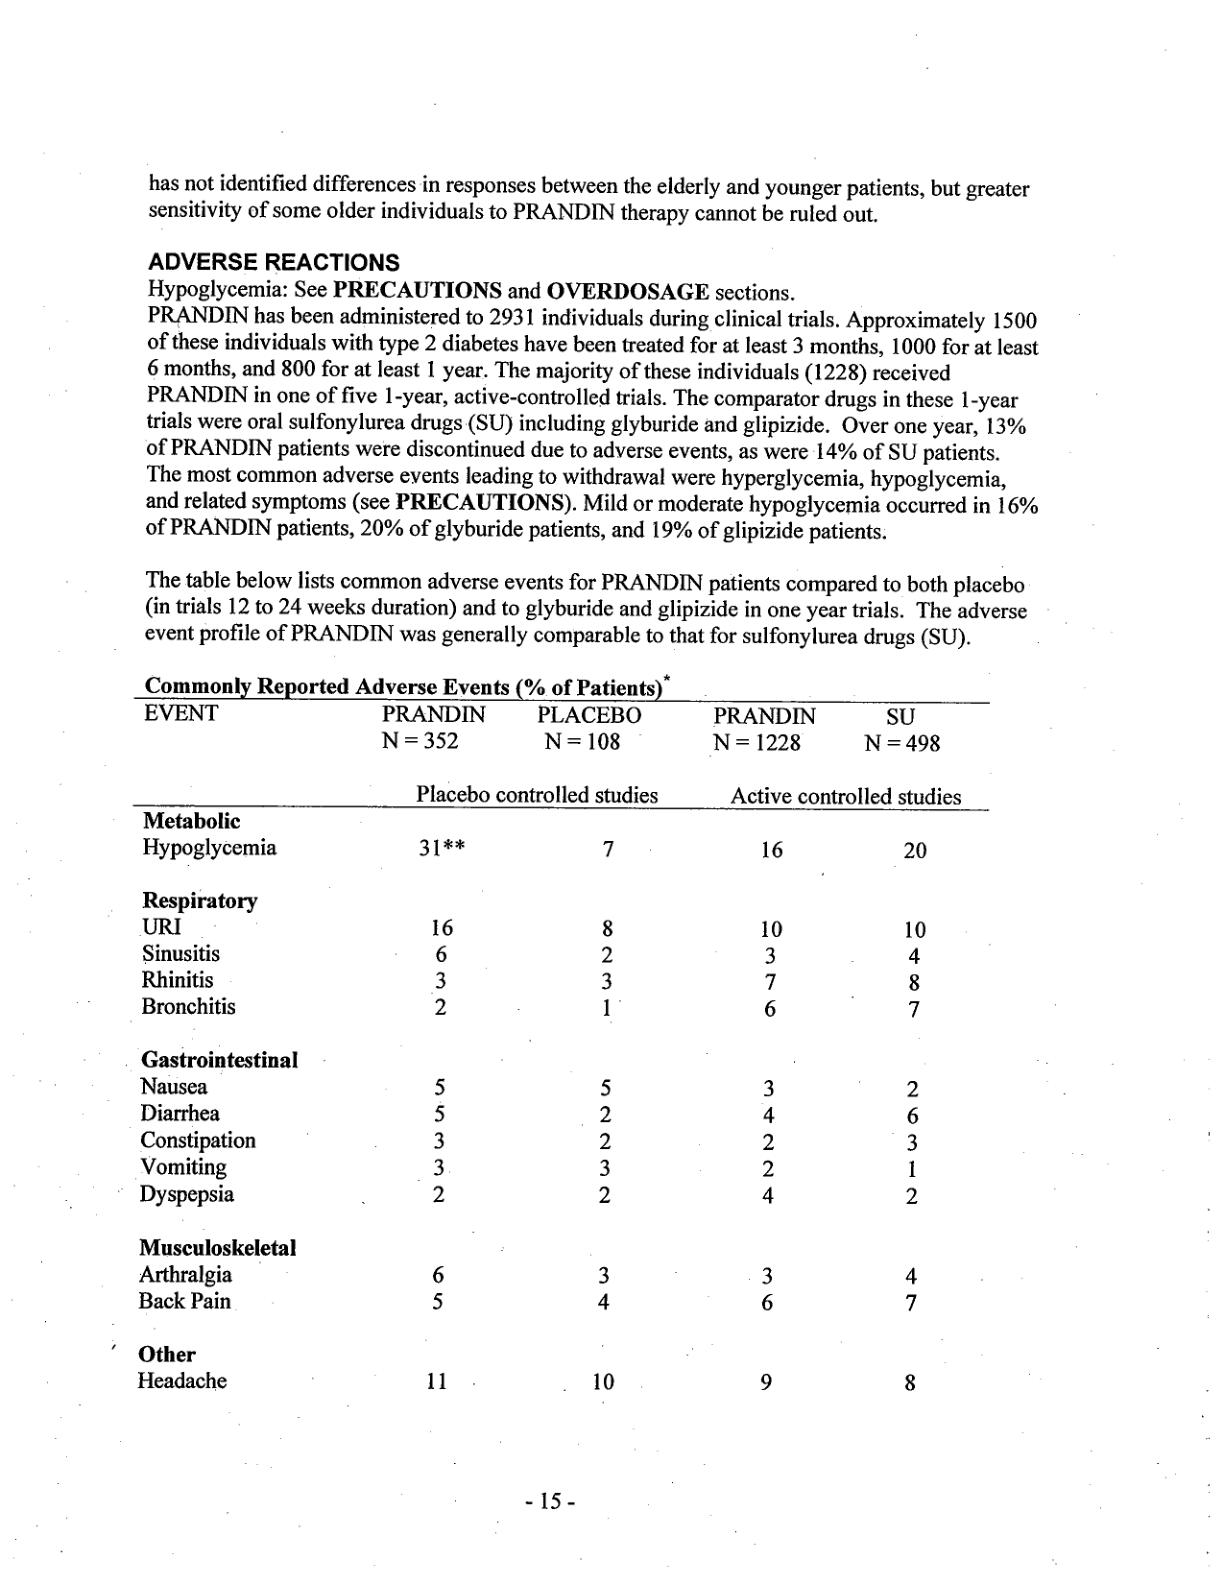partial_lined_merged_cells: (132, 698, 987, 1401)
